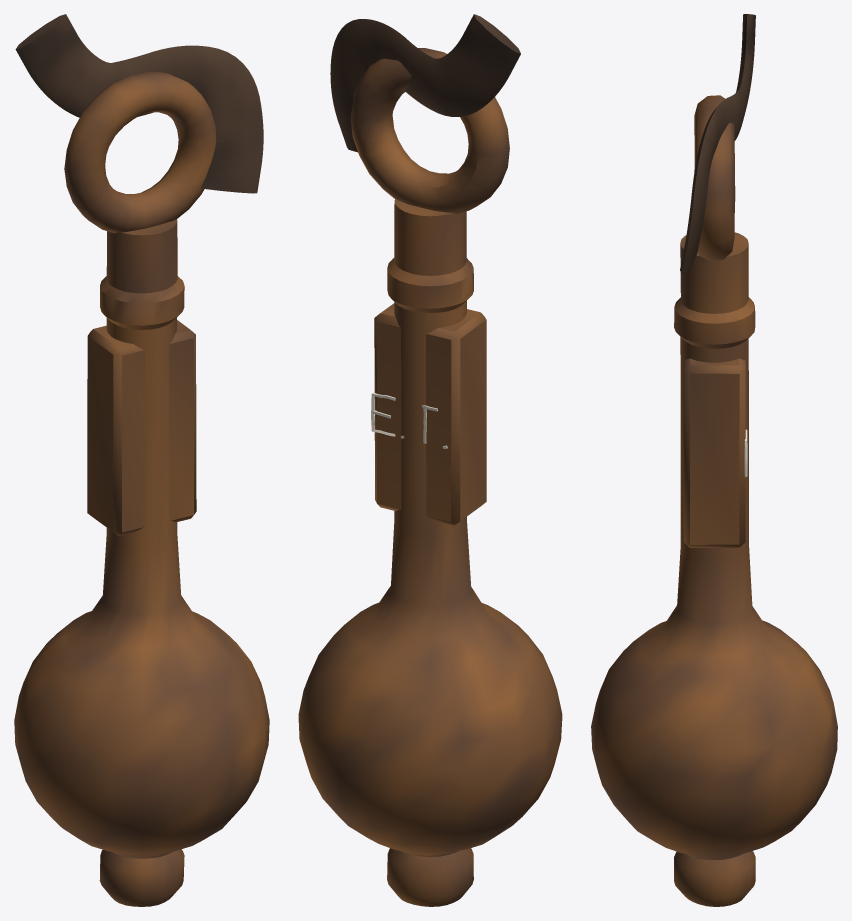
File: sextons-bell-clapper.glb
3 renders of one model, left to right at view 1: azimuth 30°, elevation 25°; view 2: azimuth 150°, elevation 25°; view 3: azimuth 270°, elevation 25°, orthographic. The views are drawn at different scales.
Parts seen in each view (by area): view 1: sextons-bell-clapper; view 2: sextons-bell-clapper; view 3: sextons-bell-clapper.
Part boxes in pixels (x1,y1,x2,y2): sextons-bell-clapper: (14, 14, 269, 906); sextons-bell-clapper: (298, 14, 562, 906); sextons-bell-clapper: (591, 14, 837, 906).
Bounding box in the file's own units: 0.064 × 0.2435 × 0.0638.
